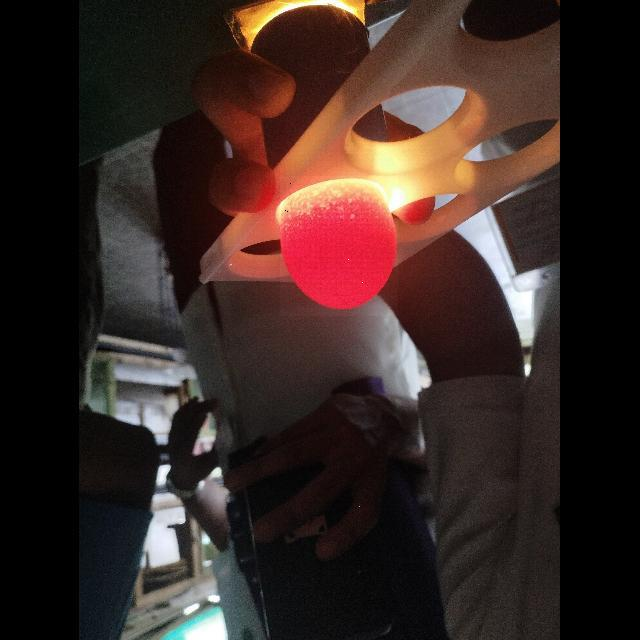Infertile: (280, 176, 398, 316)
